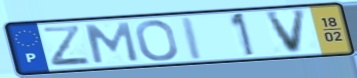1: (227, 11, 258, 59)
I: (178, 15, 206, 62)
M: (83, 21, 141, 65)
O: (133, 18, 181, 62)
V: (263, 8, 310, 56)
Z: (40, 24, 94, 67)
